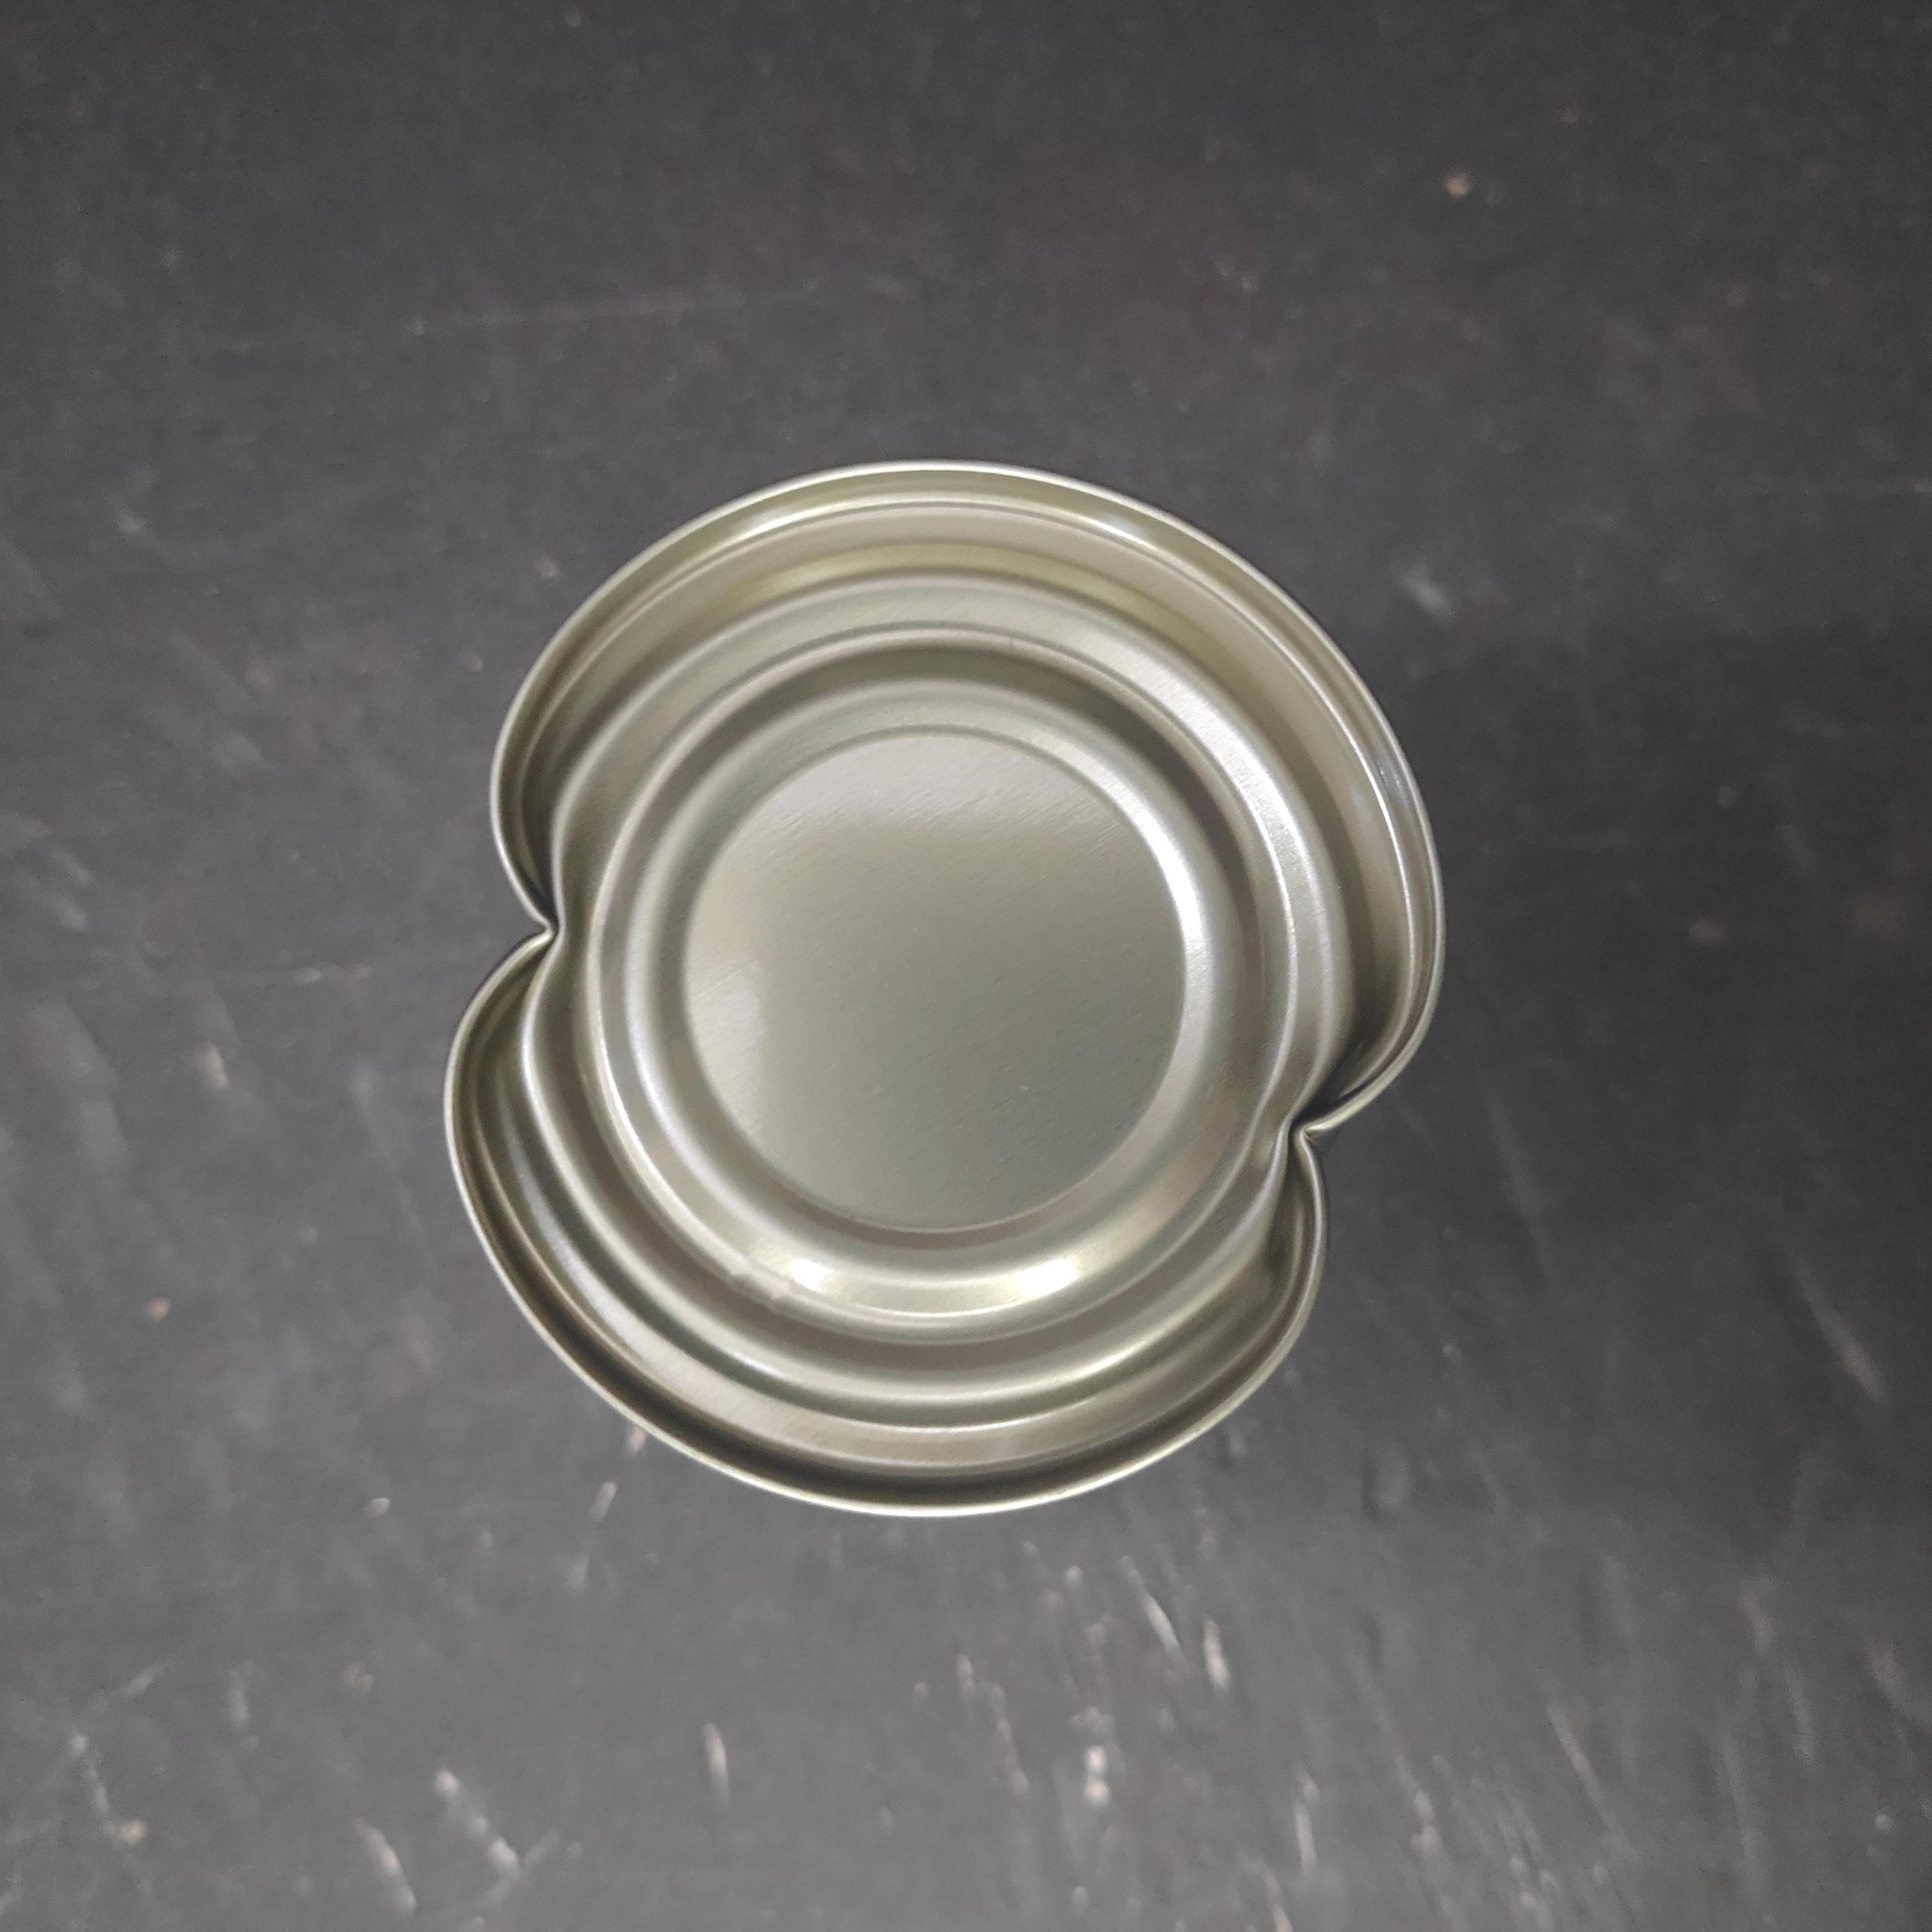Critical Defect: (471, 400, 1503, 1487)
